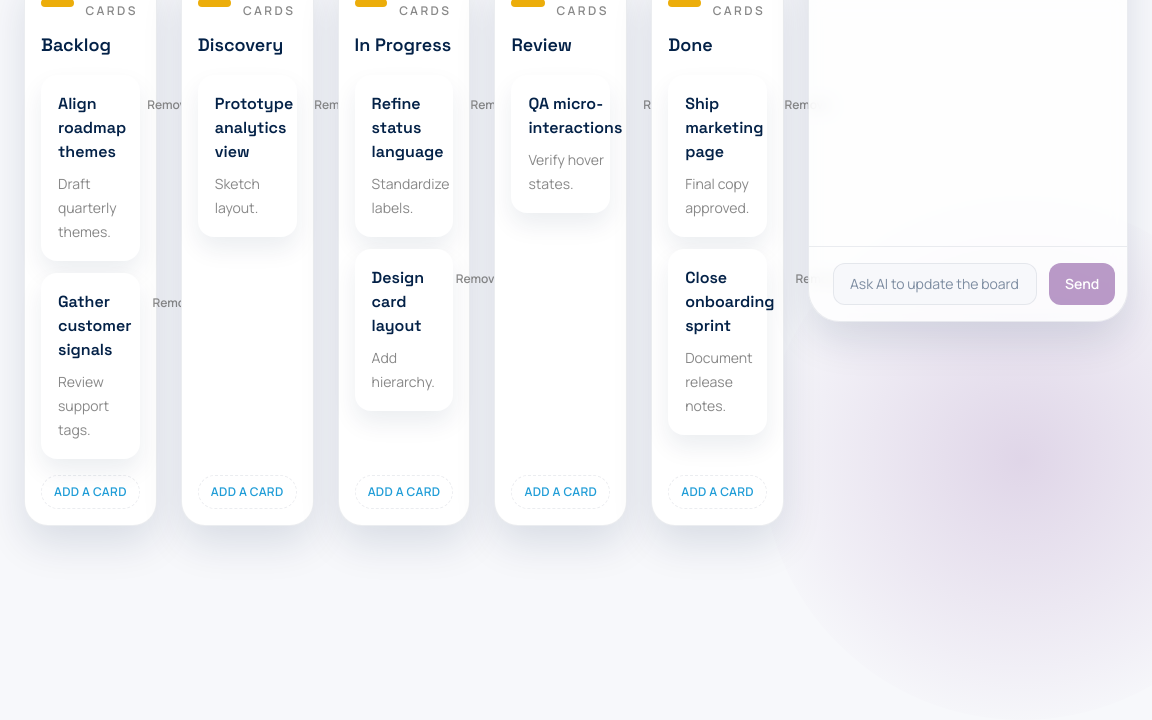
Scenario: KanbanBoard › adds a card
The width and height of the screenshot is (1152, 720).
(page scrolled)
Click the 1st button "Add a card" at (90, 492), box [41,475,140,509]
(page scrolled)
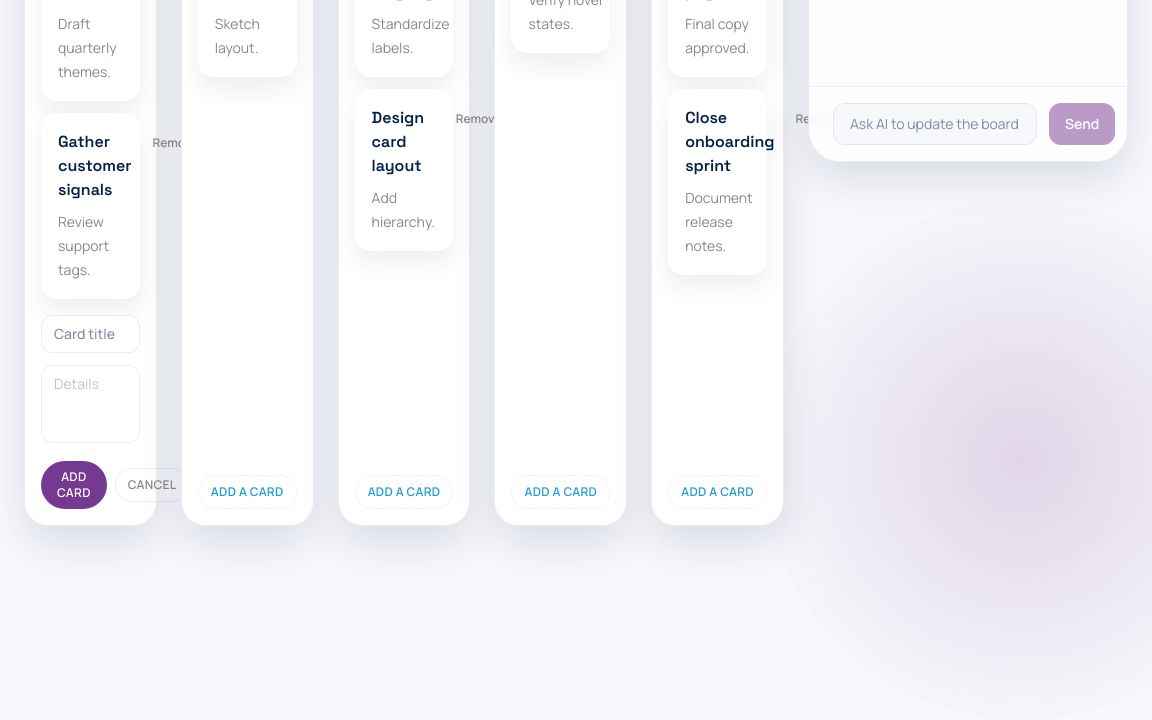
Type "New card" into the field with placeholder "Card title" at (90, 334), box [41,315,140,353]
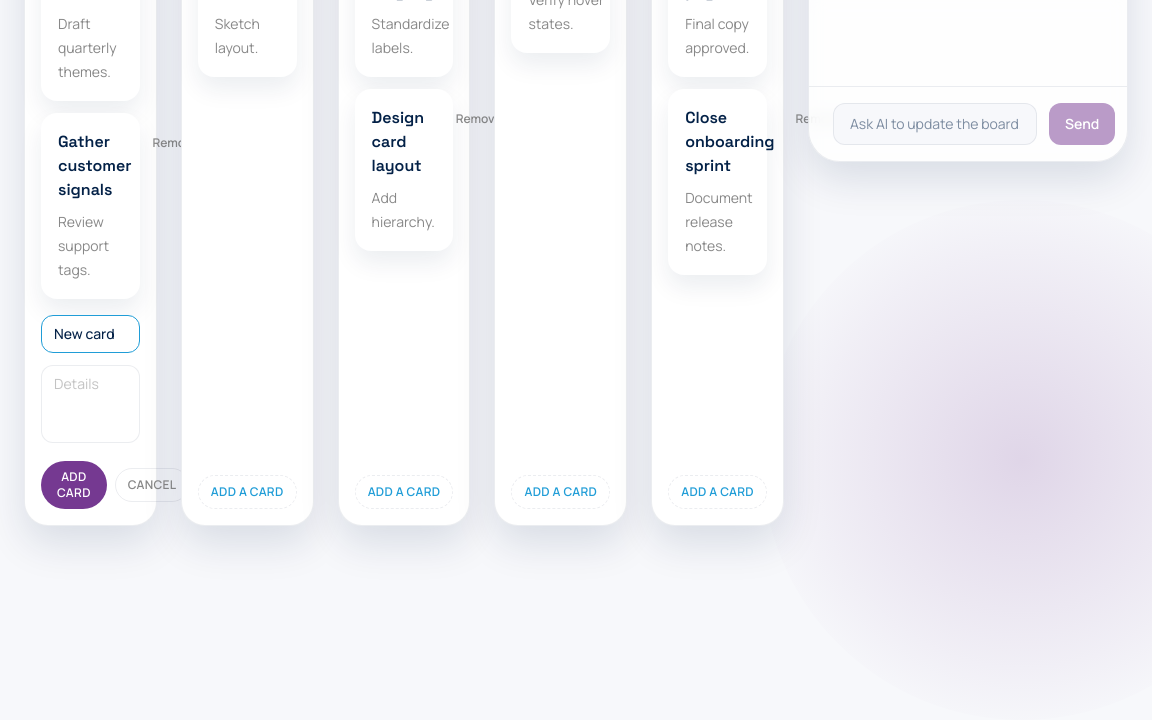
Type "Notes" into the text box with placeholder "Details" at (90, 404), box [41,365,140,443]
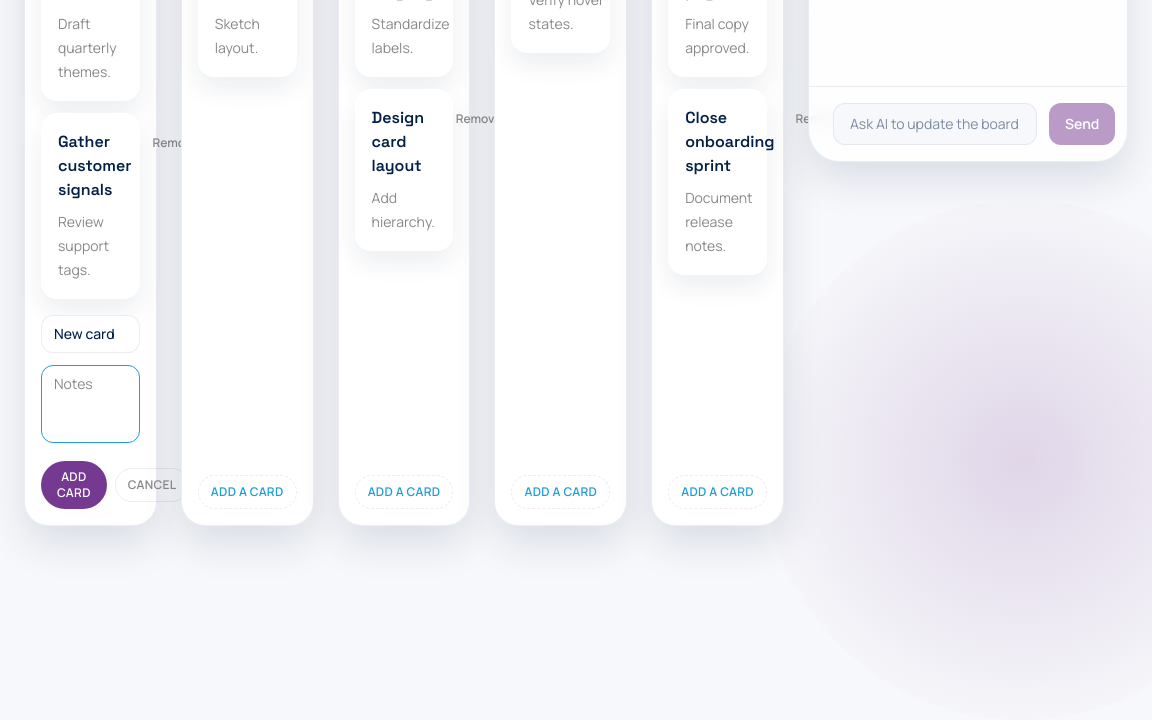
Click the button "Add card" at (74, 485), box [41,461,107,509]
(page scrolled)
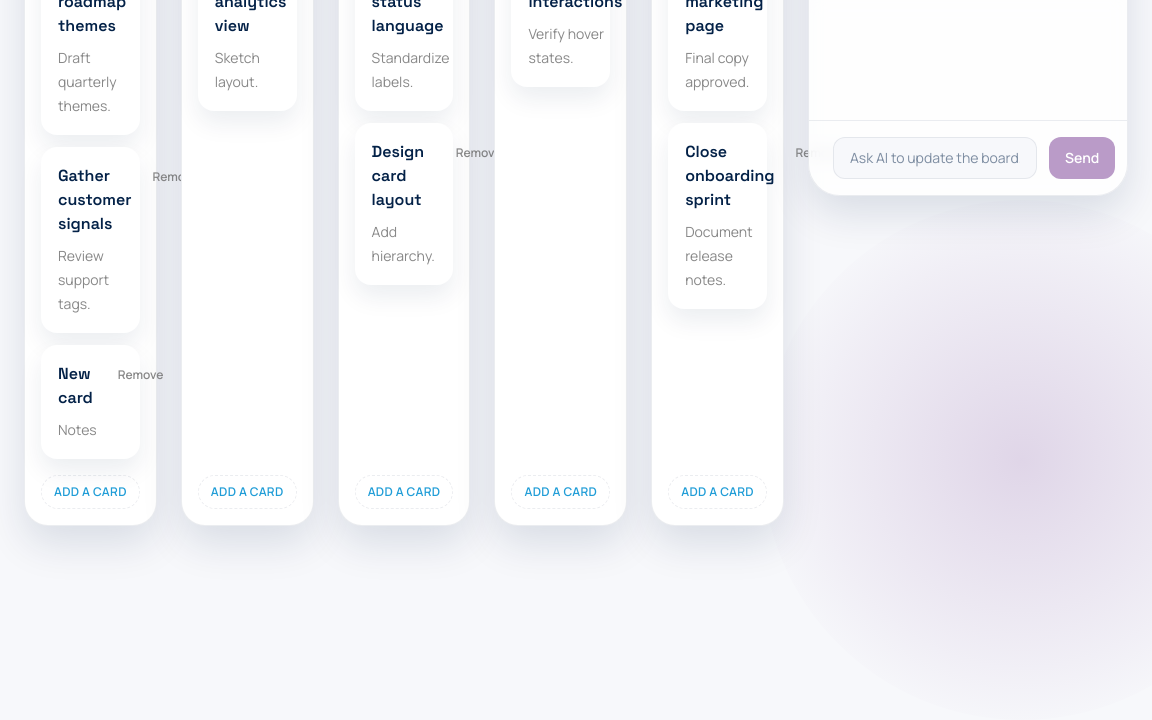
Expected: the heading "New card" is shown, [58,362,97,410]
